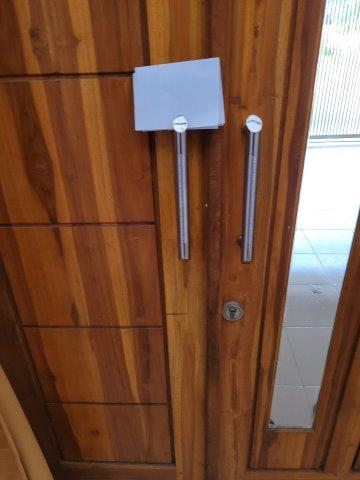kertas: (130, 58, 227, 131)
